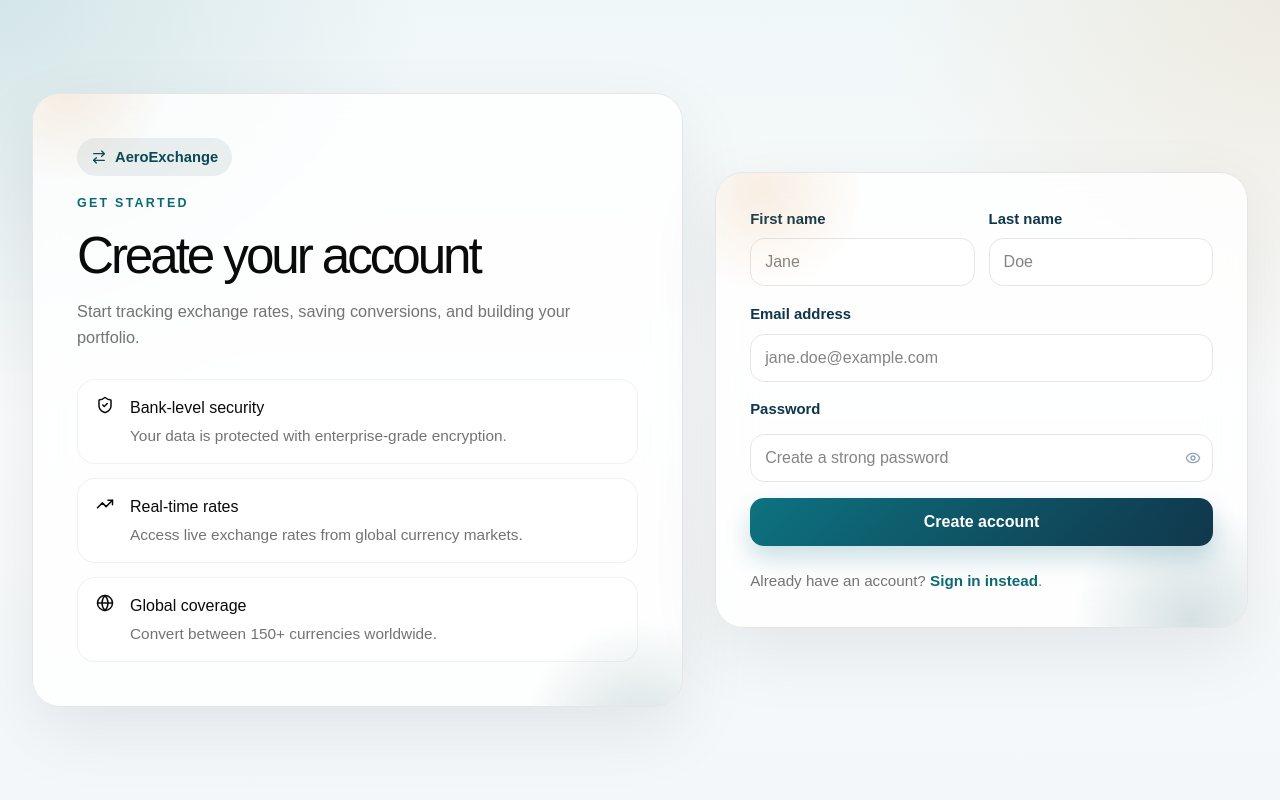
Test: RegisterPage › shows validation error for empty email on submit
Step 1. Click the button "Create account" → (982, 522), box left=750, top=498, right=1213, bottom=546
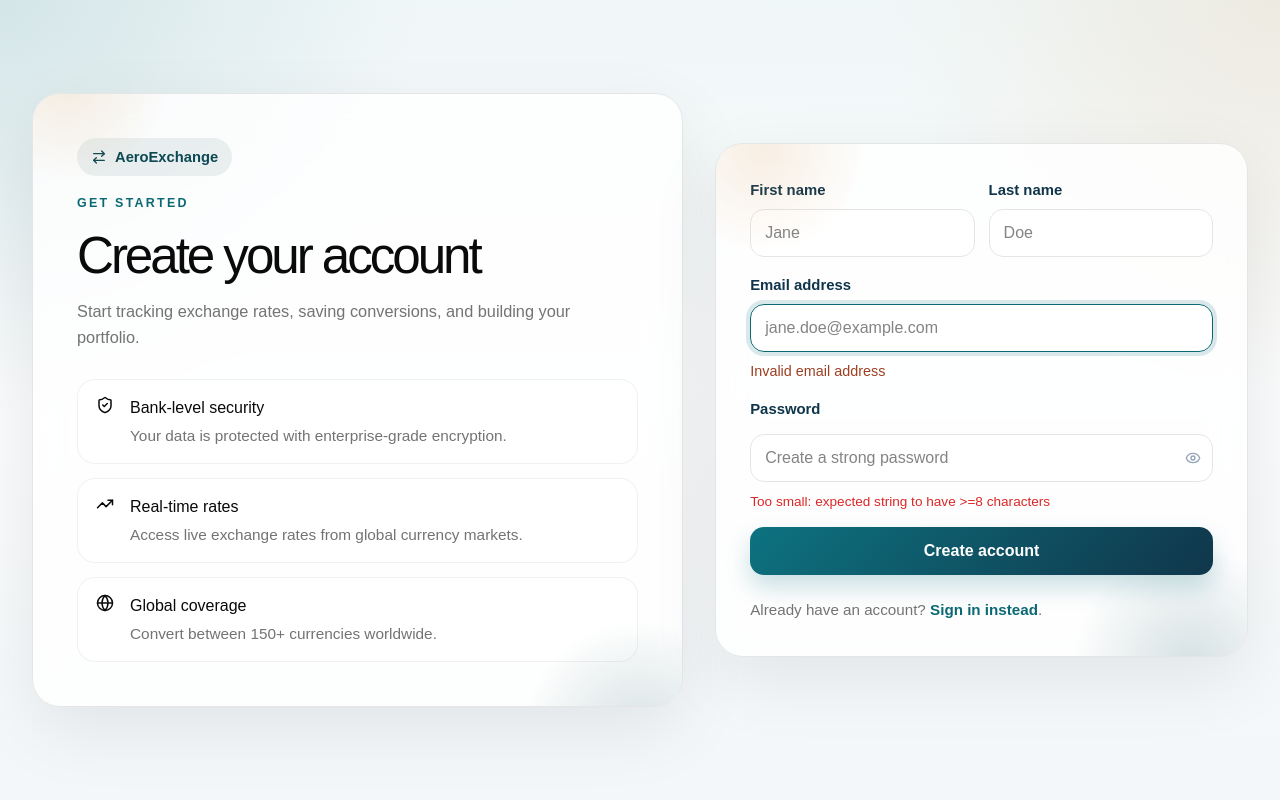
Expected: the text "Invalid email address" is shown, left=750, top=363, right=885, bottom=379
